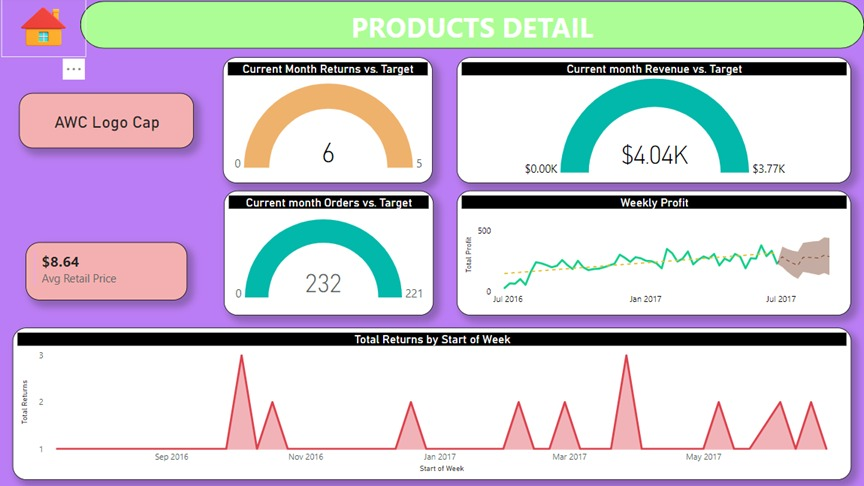

Layout of this report page (visuals, bound fields, positions):
{"tool":"powerbi","page":{"name":"Product Detail","canvas":[1280,720],"ordinal":1},"visuals":[{"type":"gauge","title":"Current month Orders vs. Target","fields":{"MaxValue":["Sales.Order Target"],"Y":["Sales.Total_Orders"]},"box":[334.8,284,306,182.5],"z":1000},{"type":"gauge","title":"Current month Revenue vs. Target","fields":{"Y":["Sales.Total Revenue"],"MaxValue":["Sales.Revenue Target"]},"box":[675.1,89.2,576.3,183.9],"z":2000},{"type":"gauge","title":"Current Month Returns vs. Target","fields":{"Y":["Return.Total Returns"],"MaxValue":["Return.Pre Month Returns"]},"box":[333.4,89.2,306,183.9],"z":3000},{"type":"stackedAreaChart","fields":{"Category":["Dim_Calender.Start of Week"],"Y":["Return.Total Returns"]},"box":[26.1,484.4,1225.4,222.3],"z":4000},{"type":"card","fields":{"Values":["Min(Dim_Products.ProductName)"]},"box":[35.7,141.3,255.2,81],"z":5000},{"type":"lineChart","title":"Weekly Profit","fields":{"Y":["Sales.Total Profit"],"Category":["Dim_Calender.Start of Week"]},"box":[675.1,284,576.3,182.5],"z":6000},{"type":"multiRowCard","fields":{"Values":["Sales.Avg Retail Price"]},"box":[45.3,359.5,236,85.1],"z":7000},{"type":"shape","box":[124.9,6.9,1145.8,70],"z":7001},{"type":"image","box":[9.6,0,123.5,89.2],"z":7002}]}

Visuals, with their boxes in screenshot pixels (x1, y1, x2, y2), scaled from the page's 1280x720 canvas onto the 864x486 screenshot:
"Current month Orders vs. Target" gauge: [226,192,433,315]
"Current month Revenue vs. Target" gauge: [456,60,845,184]
"Current Month Returns vs. Target" gauge: [225,60,432,184]
stackedAreaChart - Dim_Calender.Start of Week x Return.Total Returns: [18,327,845,477]
card - Min(Dim_Products.ProductName): [24,95,196,150]
"Weekly Profit" lineChart: [456,192,845,315]
multiRowCard - Sales.Avg Retail Price: [31,243,190,300]
shape: [84,5,858,52]
image: [6,0,90,60]
